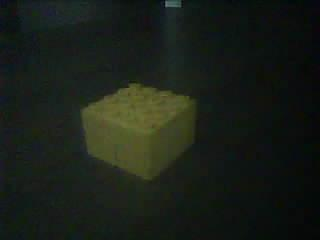lego: (80, 82, 197, 179)
